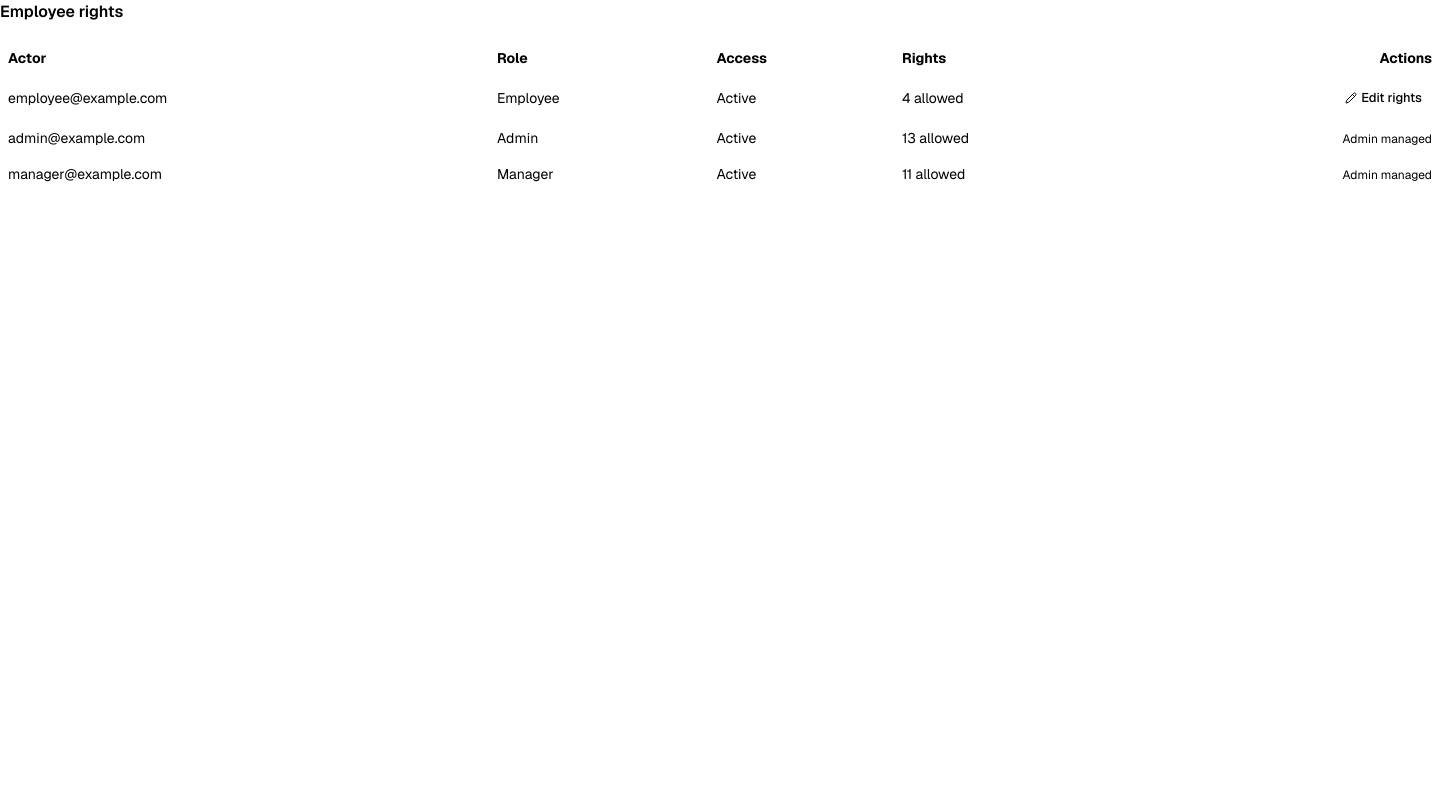
Scenario: shows rights controls only after Edit without saving on selection
Expected: the text "employee@example.com" is shown, [8,89,167,107]
Expected: the text "admin@example.com" is shown, [8,129,145,147]
Click the button with aria-label "Edit rights for employee@example.com".
click(1384, 98)  # box [1335,84,1432,112]
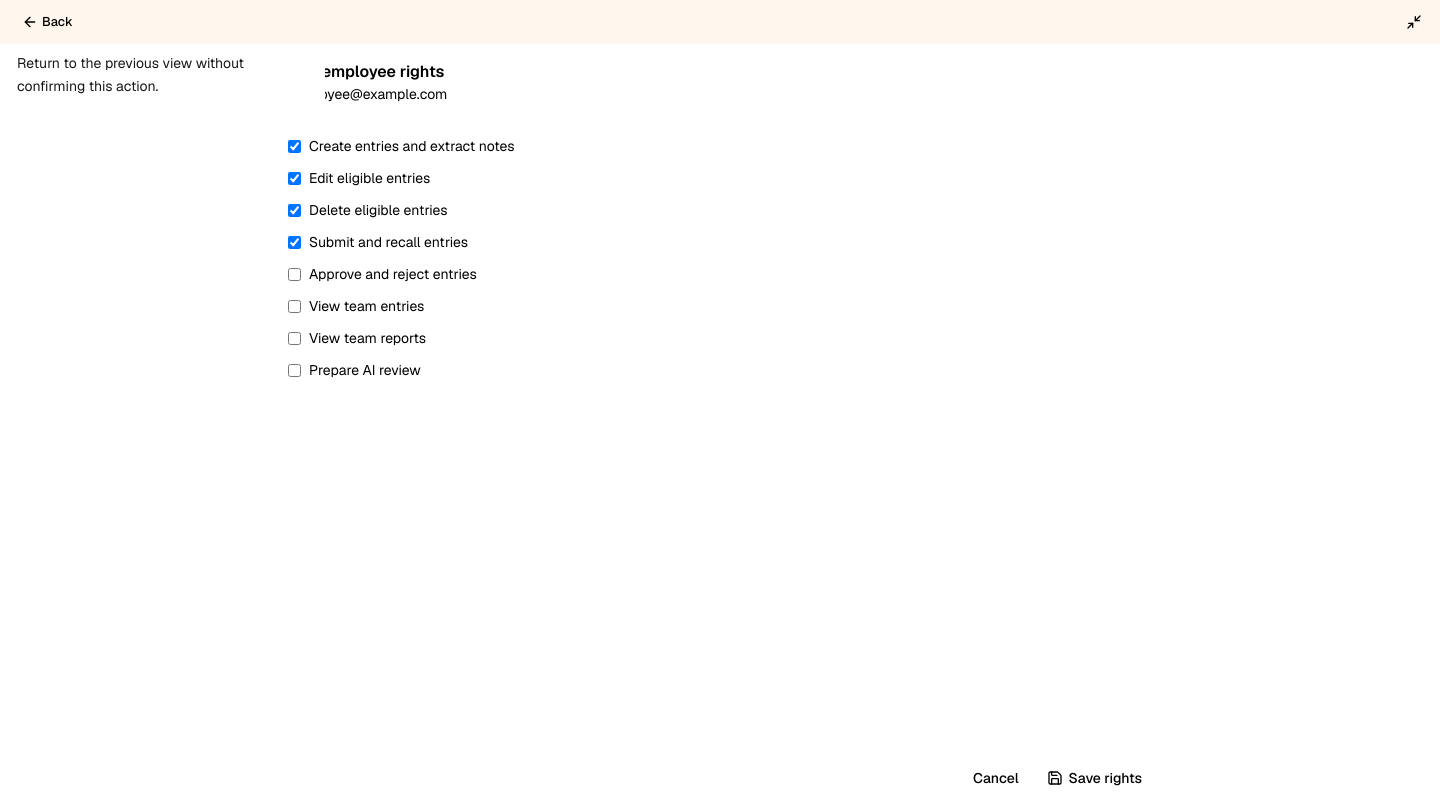
Expected: the checkbox labelled "Create entries and extract notes" is shown, [288,140,301,152]
Expected: the button "Save rights" is shown, [1037,762,1152,794]
